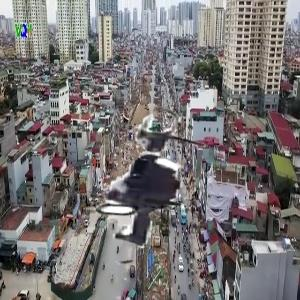drone: (46, 96, 226, 276)
